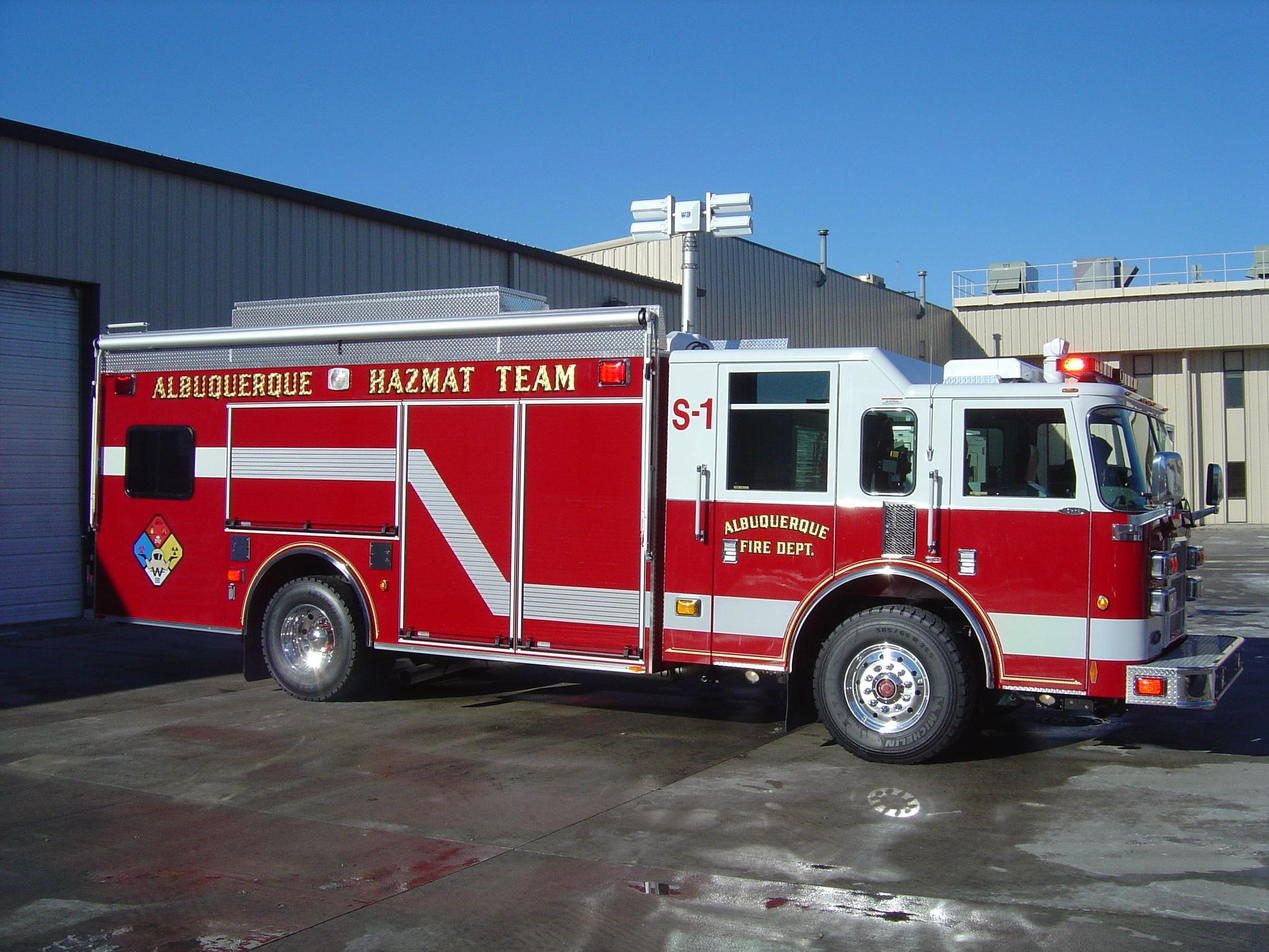Fire-engine: (91, 298, 1268, 766)
